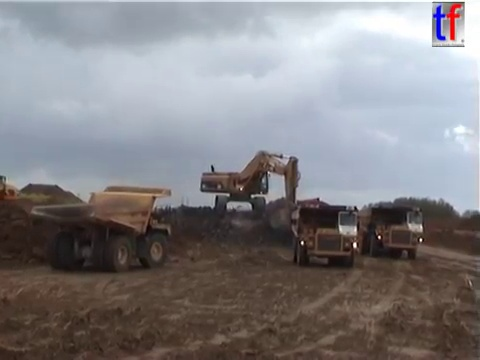excavator: (198, 149, 303, 233), (270, 196, 334, 223)
truck: (29, 183, 174, 274), (288, 203, 361, 269), (343, 204, 424, 260), (1, 172, 21, 209)
